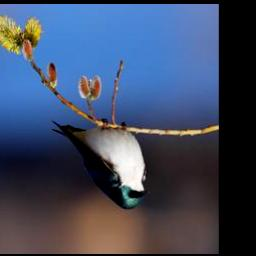Swallow: (51, 121, 152, 211)
